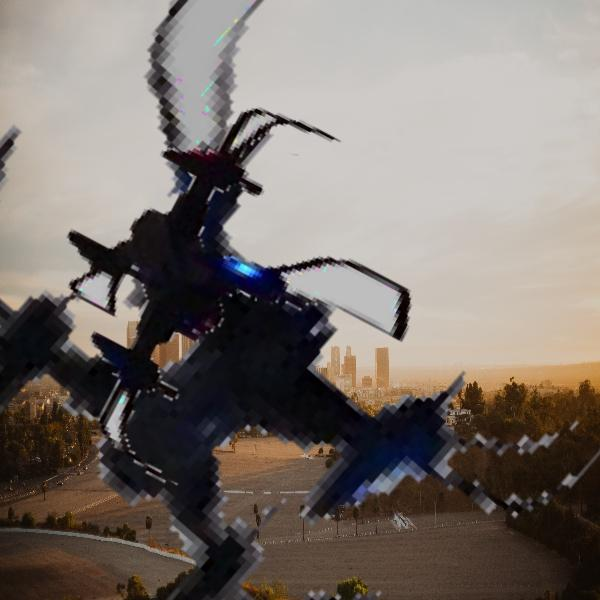drone: (33, 109, 433, 509)
